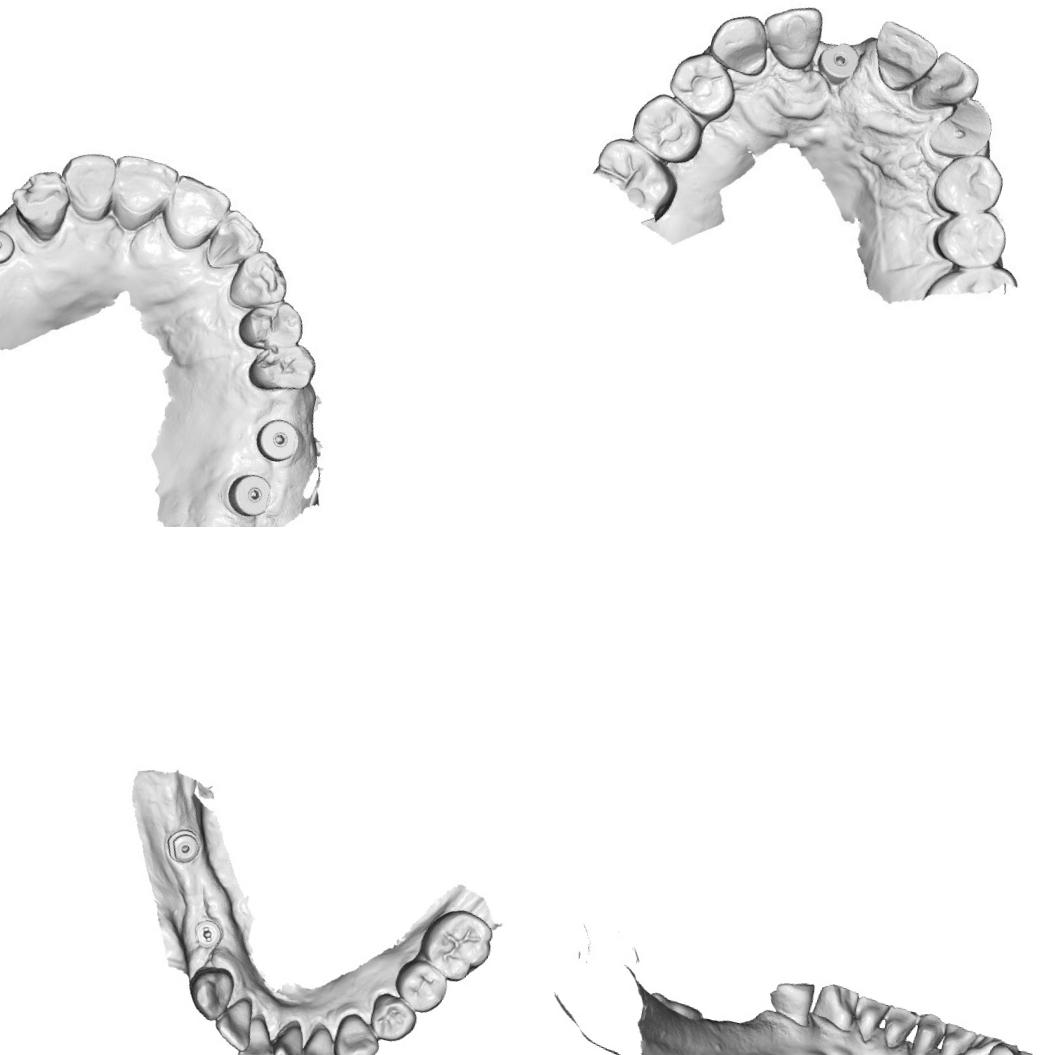canine: (3, 161, 76, 244), (923, 90, 1001, 166), (703, 8, 774, 80), (222, 245, 292, 316), (181, 960, 239, 1026), (328, 1008, 386, 1055)
implant: (222, 464, 278, 526), (248, 407, 306, 466), (812, 38, 862, 93), (162, 824, 204, 868), (0, 221, 21, 272)
implant_minus: (190, 916, 226, 953)
incisor: (863, 16, 944, 102), (103, 149, 183, 236), (153, 172, 232, 256), (53, 142, 124, 224), (906, 44, 983, 119), (752, 0, 827, 74), (204, 209, 266, 276), (210, 990, 260, 1054), (234, 1014, 282, 1055), (296, 1022, 350, 1055), (267, 1019, 314, 1055)
molar: (413, 902, 499, 989)
premolar: (624, 87, 714, 170), (658, 44, 746, 124), (926, 200, 1015, 276), (924, 144, 1007, 222), (235, 294, 303, 358), (389, 955, 454, 1018), (248, 338, 316, 396), (365, 989, 422, 1046)
